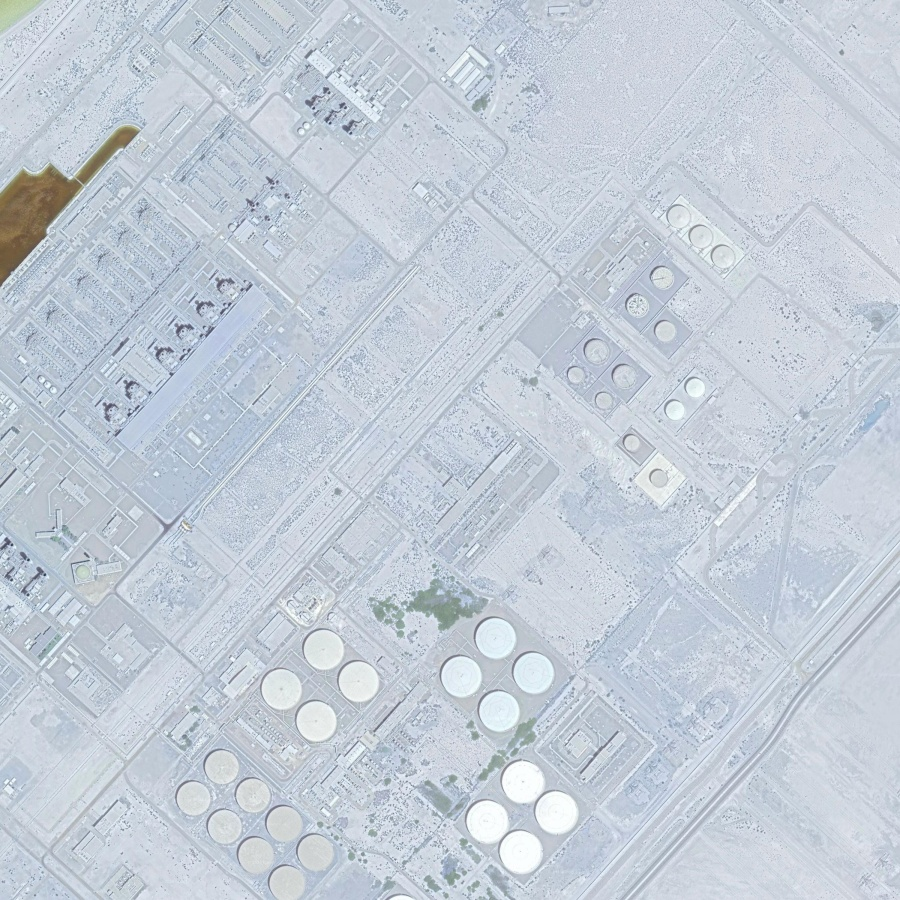PowerPlant: (555, 198, 767, 495)
